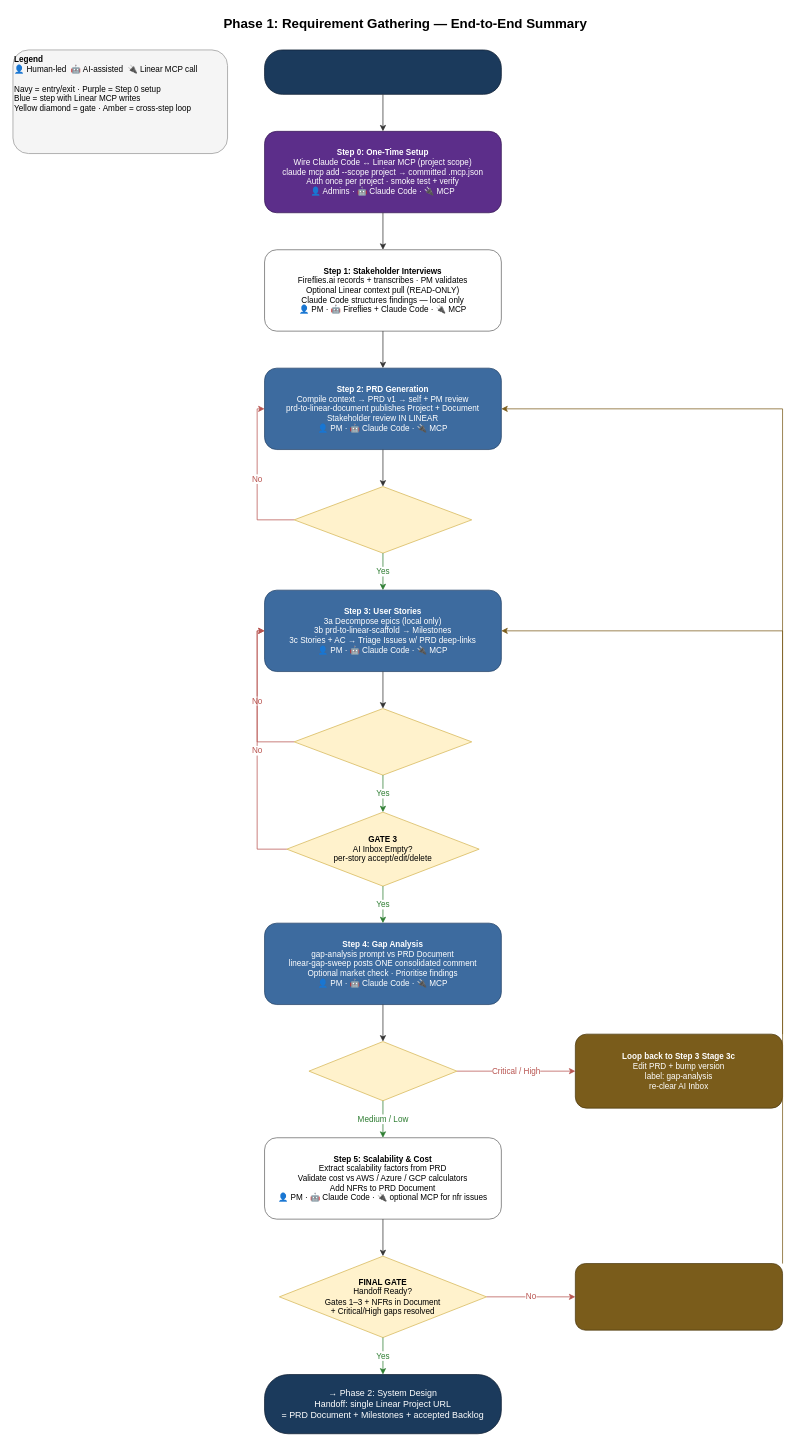
Image size: 801x1447. Some labels were removed from this diagram. The box of each missing label's shape, as (x1, y1, x2, y2) in pixels:
GATE 1 PRD Approved in Linear?: (293, 486, 472, 553)
GATE 2 Milestones Approved?: (293, 708, 472, 775)
Loop back to Step 2 Stage 2.1 Refresh context bundle re-run Steps 2–5 as needed: (575, 1263, 783, 1330)
Phase 1 Entry Linear admin + Claude Pro/Max/Team/Enterprise: (264, 49, 501, 94)
Severity?: (308, 1041, 457, 1101)
